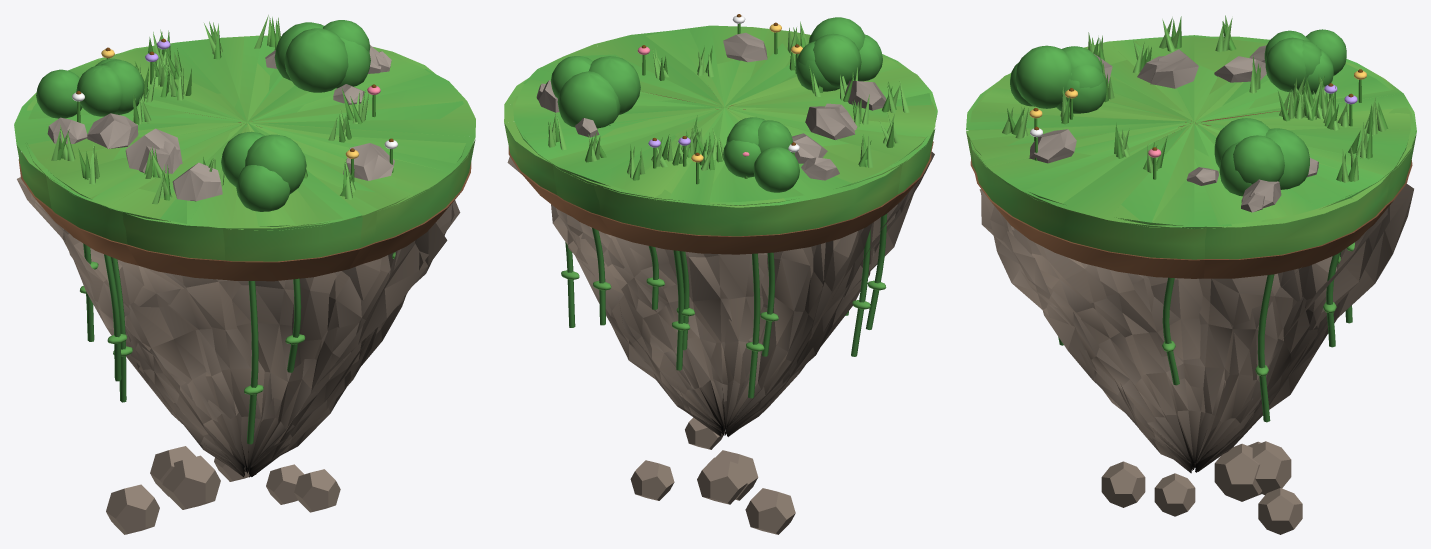
File: islands.glb
The picture shows the model from 3 angles, left to right: view 1: azimuth 30°, elevation 25°; view 2: azimuth 150°, elevation 25°; view 3: azimuth 270°, elevation 25°; orthographic projection. The views are drawn at different scales.
Parts seen in each view (by area): view 1: grass (×3), rock (×3), soil (×3), bushBall2 (×2), bushBall3 (×3), pebble0 (×2), pebble1 (×3), stone0 (×3), bushBall4 (×2), stone2 (×2), vine2 (×2), bushBall1 (×2) (+4 smaller); view 2: grass (×3), rock (×3), soil (×3), bushBall2 (×3), pebble0 (×3), bushBall4 (×3), stone0 (×3), bushBall1, pebble1 (×2), bushBall0, vine0 (×2), bushBall3 (×2) (+4 smaller); view 3: grass (×3), rock (×3), soil (×2), bushBall4 (×3), pebble1 (×3), bushBall1 (×3), pebble0 (×2), bushBall2 (×3), stone0 (×2), vine3 (×2), stone2, bushBall3 (+3 smaller).
Boxes of the visible parts, x1,y1,x2,y2 form: grass (×3): (14, 35, 475, 261); rock (×3): (17, 177, 460, 477); soil (×3): (18, 122, 471, 281); bushBall2 (×2): (36, 28, 348, 118); bushBall3 (×3): (76, 37, 370, 211); pebble0 (×2): (106, 455, 220, 534); pebble1 (×3): (150, 446, 340, 512); stone0 (×3): (47, 117, 394, 180); bushBall4 (×2): (245, 20, 370, 193); stone2 (×2): (87, 113, 222, 201); vine2 (×2): (104, 254, 258, 444); bushBall1 (×2): (101, 22, 323, 114); grass (×3): (504, 25, 937, 236); rock (×3): (507, 152, 934, 436); soil (×3): (508, 93, 933, 254); bushBall2 (×3): (589, 56, 839, 192); pebble0 (×3): (630, 450, 795, 534); bushBall4 (×3): (550, 17, 865, 177); stone0 (×3): (723, 32, 855, 180); bushBall1: (557, 71, 620, 128); pebble1 (×2): (685, 417, 747, 504); bushBall0: (813, 33, 861, 87); vine0 (×2): (748, 229, 870, 398); bushBall3 (×2): (758, 34, 882, 152); grass (×3): (966, 35, 1416, 259); rock (×3): (979, 184, 1413, 473); soil (×2): (973, 109, 1411, 278); bushBall4 (×3): (1015, 45, 1333, 184); pebble1 (×3): (1101, 441, 1291, 516); bushBall1 (×3): (1070, 37, 1309, 189); pebble0 (×2): (1214, 443, 1302, 534); bushBall2 (×3): (1056, 29, 1346, 168); stone0 (×2): (1029, 49, 1198, 163); vine3 (×2): (1162, 274, 1274, 422); stone2: (1214, 56, 1266, 82); bushBall3: (1219, 140, 1251, 196).
Bounding box in the file's own units: 2.38 × 2.6 × 2.32.
